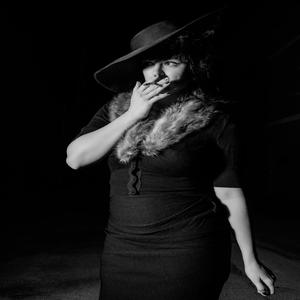cigarette: (139, 78, 166, 88)
